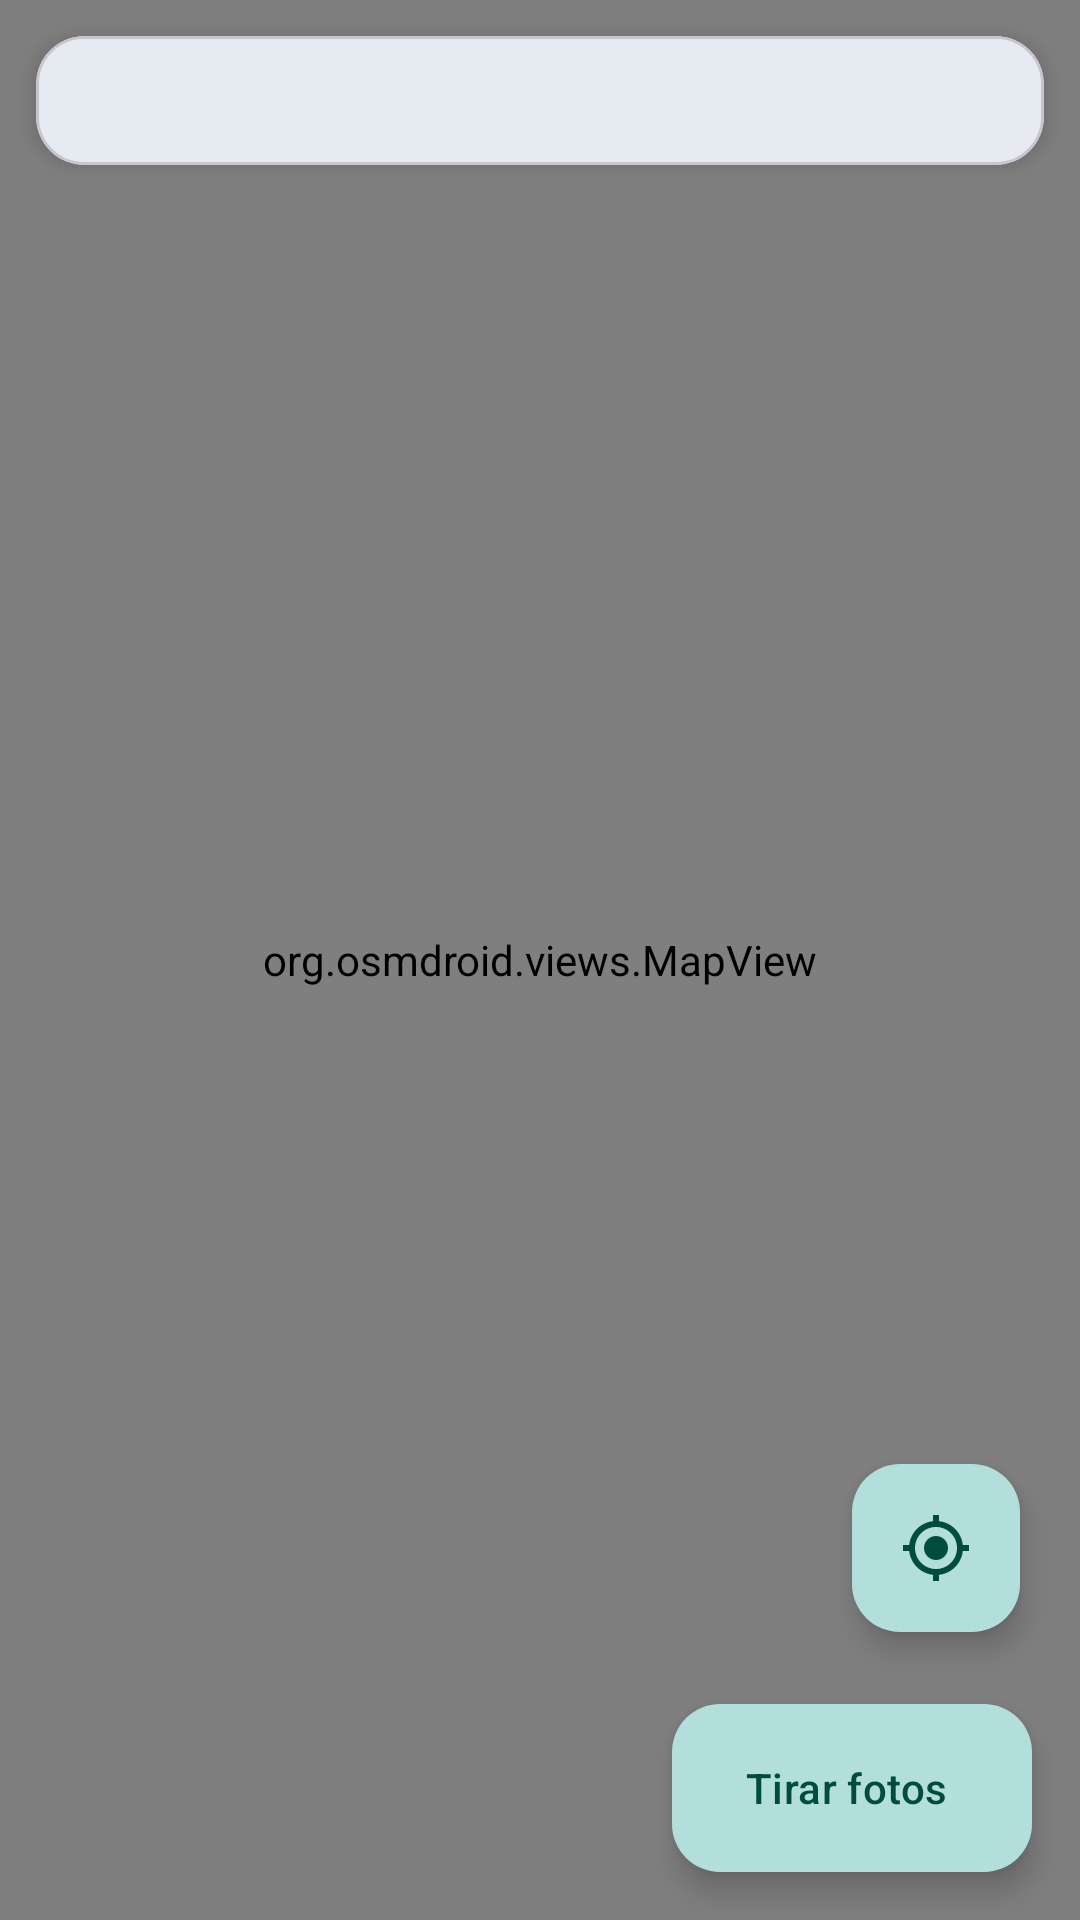

Where to tap for icons on this 1080w x 1920h app screen, as point (x, y):
Minha localização: point (936, 1548)
